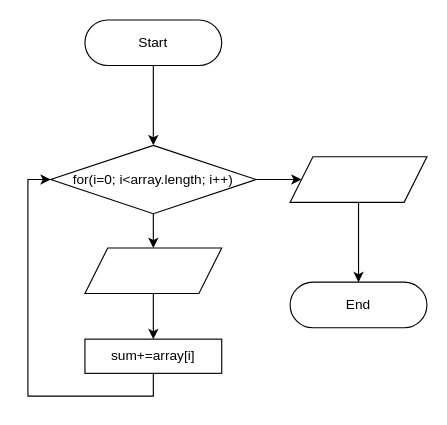
This 447x425 diagram has some shape labels left out. The centre of each missing label's shape, as x and y in pixels:
"input array[i]" belongs at (x=153, y=270).
"output sum" belongs at (x=358, y=179).
